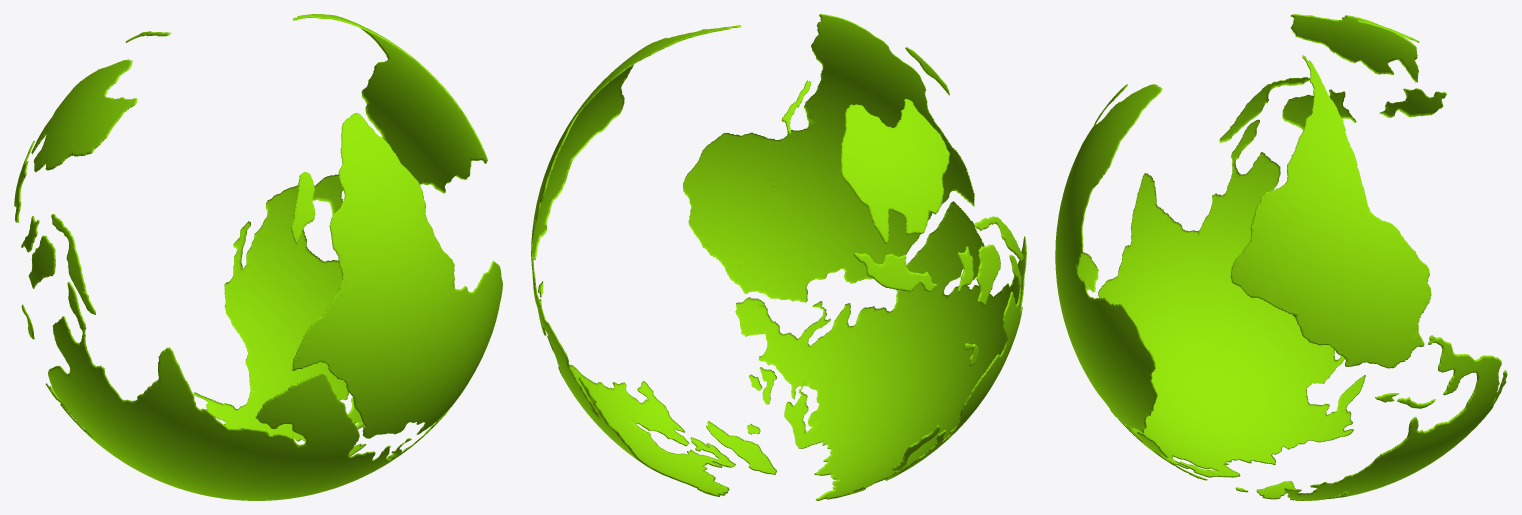
The model's file is continents.fbx.
The picture shows the model from 3 angles, left to right: view 1: azimuth 30°, elevation 25°; view 2: azimuth 150°, elevation 25°; view 3: azimuth 270°, elevation 25°; orthographic projection.
Visible parts, largest first — view 1: continents; view 2: continents; view 3: continents.
Boxes of the visible parts, left/top/right/bottom form: continents: left=14, top=14, right=502, bottom=500; continents: left=531, top=14, right=1026, bottom=500; continents: left=1055, top=14, right=1507, bottom=500.
Bounding box in the file's own units: 202 × 201 × 187.
